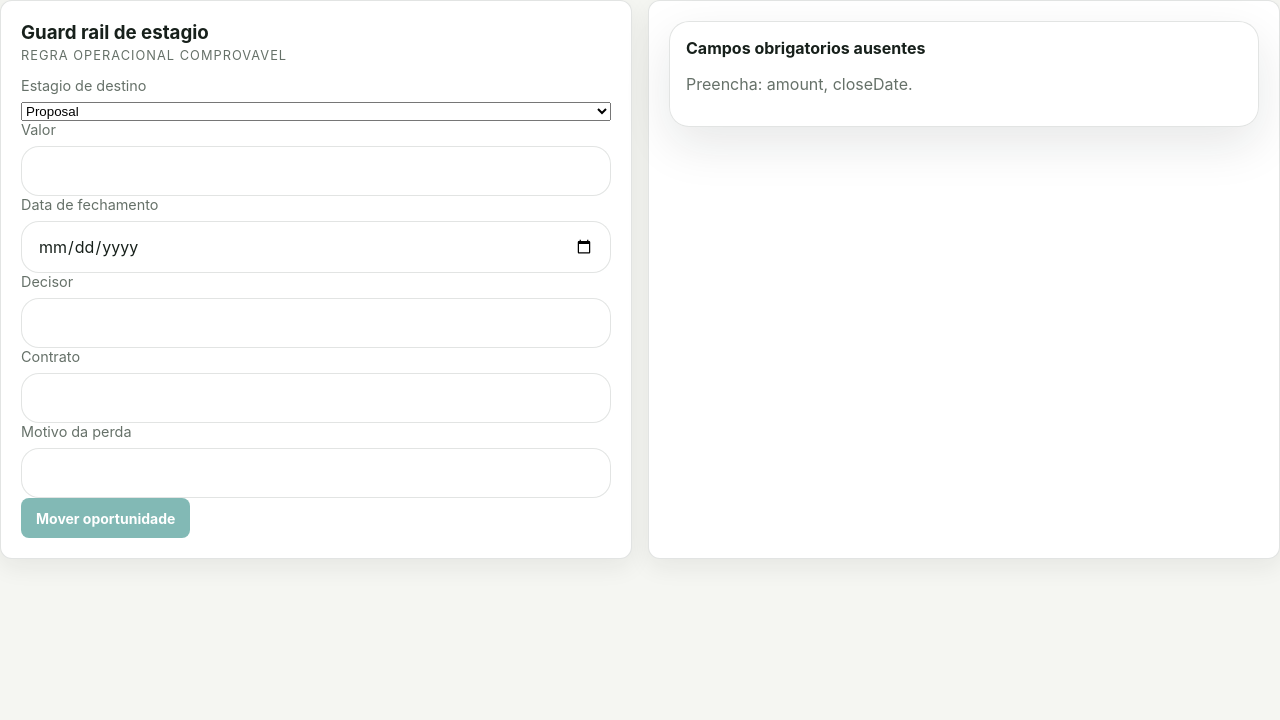
Test: Sprint2DomainExperience › requires stage fields before moving an opportunity
The image size is (1280, 720).
Expected: the button "Mover oportunidade" is disabled, [21,498,190,538]
Expected: the message shows "amount, closeDate", [686,74,913,94]
Type "150000" into the field named "Valor da oportunidade" at point(316, 171), box [21,146,611,196]
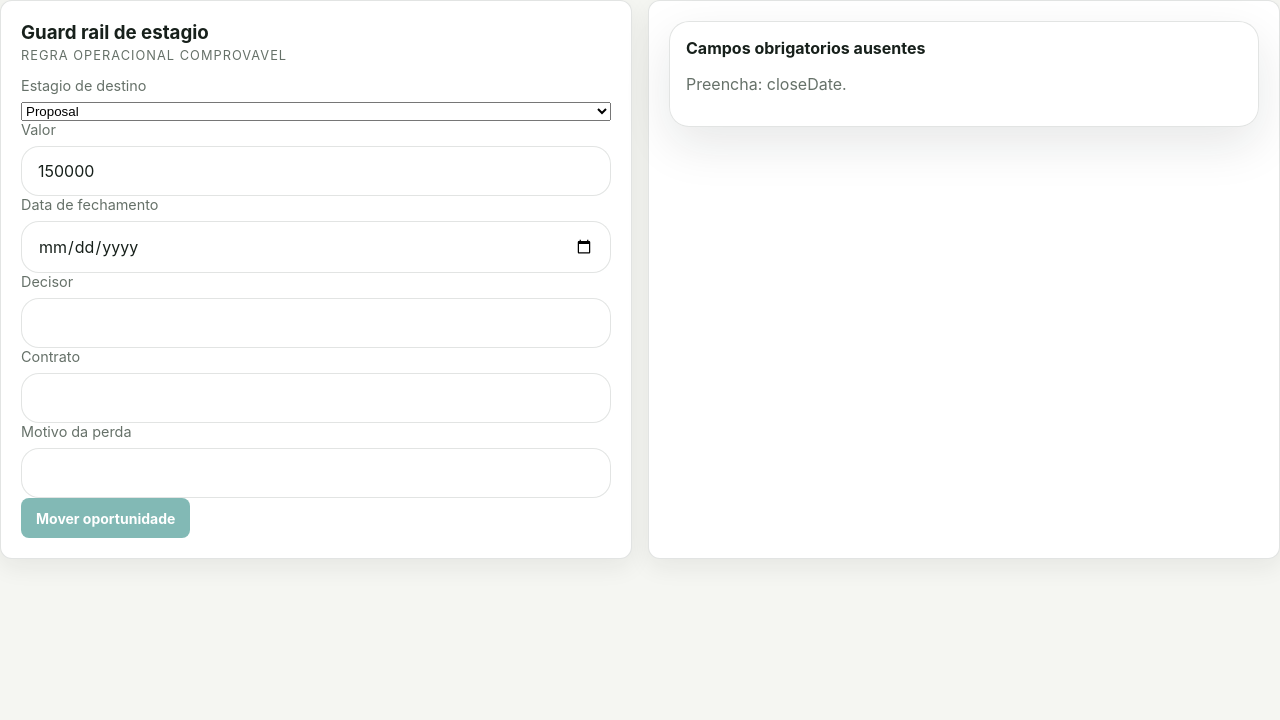
Type "2026-08-01" into the date field labelled "Data de fechamento" at point(316, 247), box [21,221,611,273]
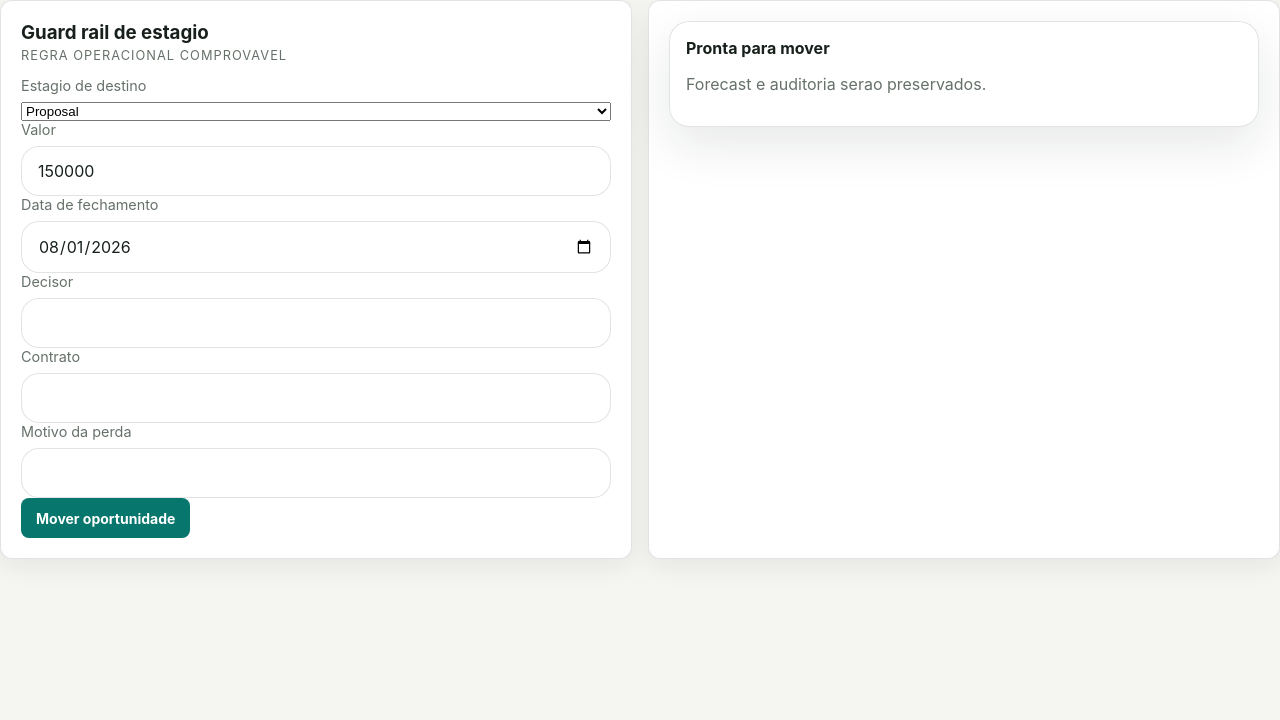
Result: the button "Mover oportunidade" is enabled
Click the button "Mover oportunidade" at point(106, 518), box [21,498,190,538]
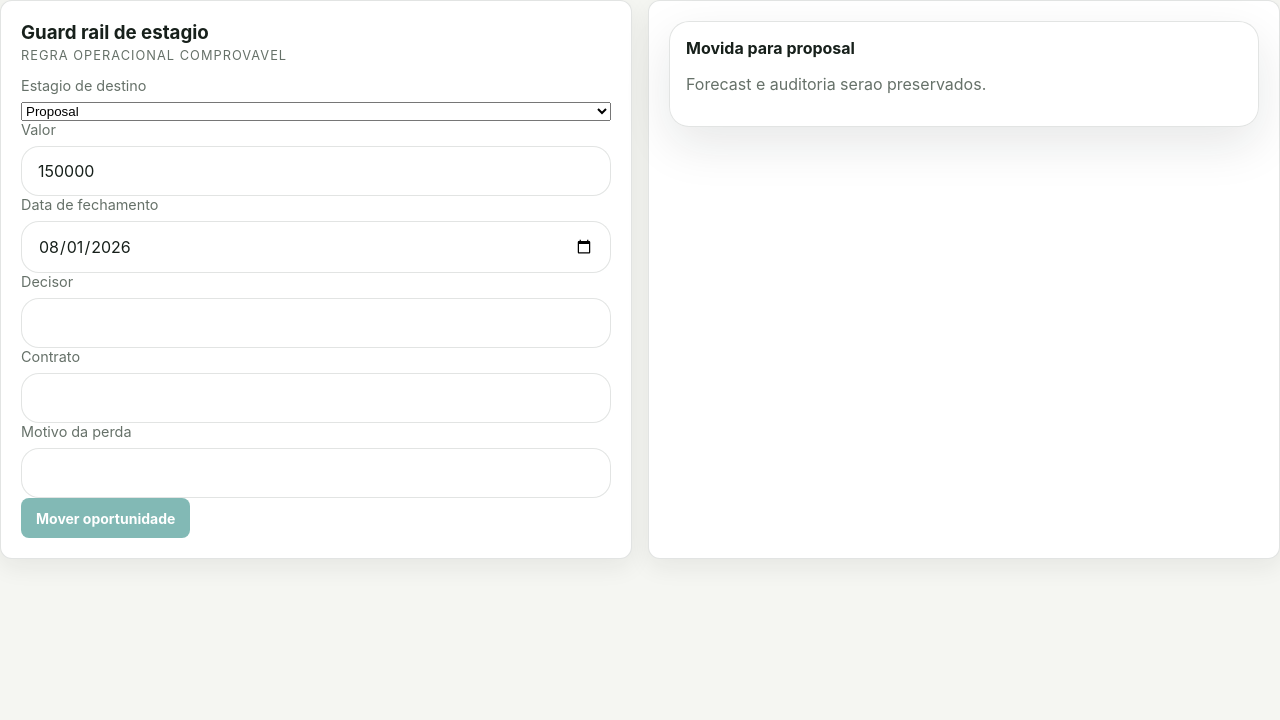
Result: the message shows "Movida para proposal" at [686,38,855,58]
